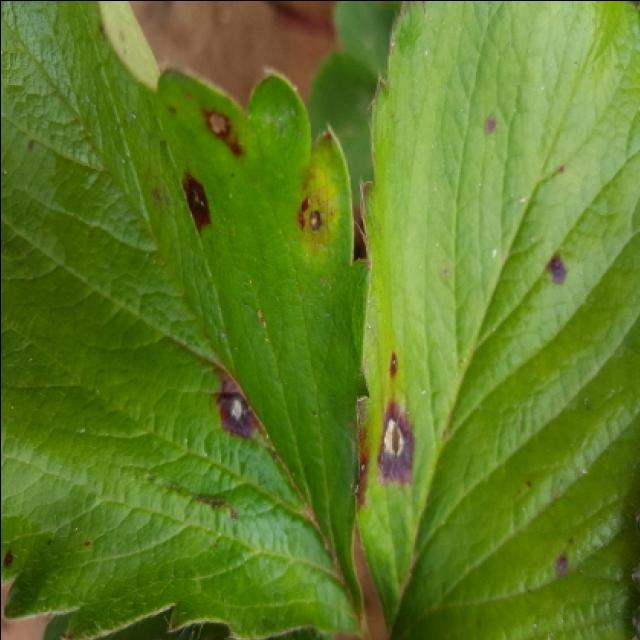Leaf Spot: (2, 2, 368, 640), (355, 2, 640, 640)
